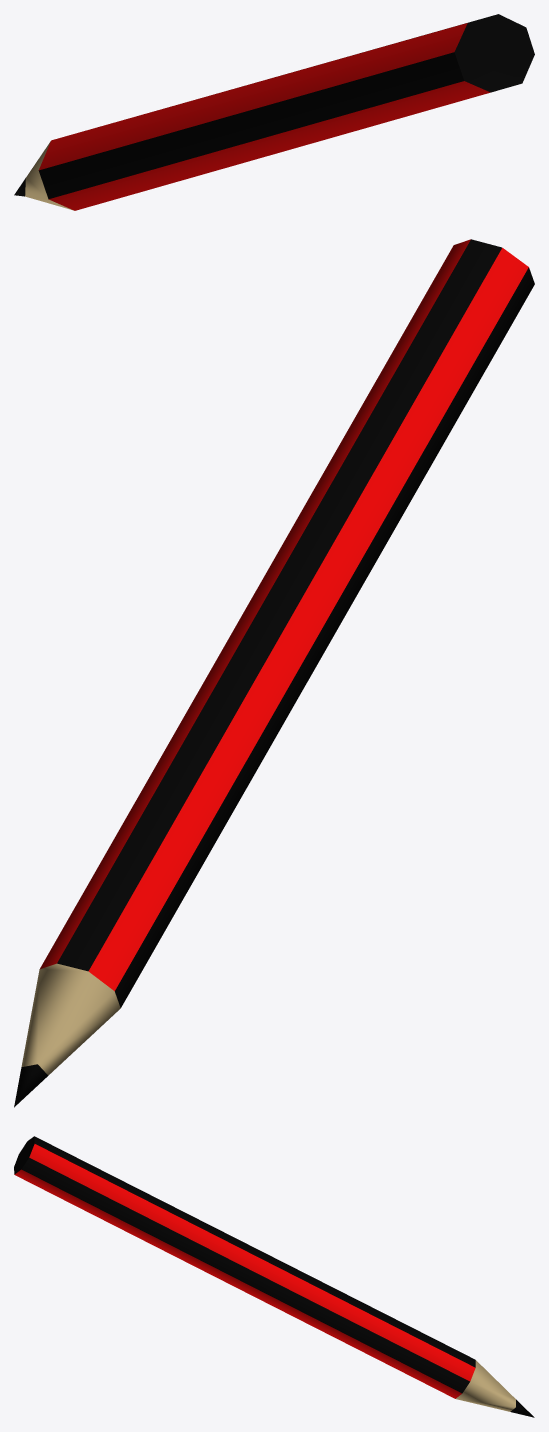
File: pencil.fbx
3 views of the same model, one above another, from view 1: azimuth 30°, elevation 25°; view 2: azimuth 150°, elevation 25°; view 3: azimuth 270°, elevation 25° (orthographic). The views are drawn at different scales.
Visible parts, largest first — view 1: pCube23; view 2: pCube23; view 3: pCube23.
Boxes of the visible parts, bbox=[...] form: pCube23: bbox=[14, 14, 534, 210]; pCube23: bbox=[14, 239, 534, 1107]; pCube23: bbox=[14, 1136, 534, 1417].
Size of the model in its own units: 0.3133 by 2.09 by 3.56.
